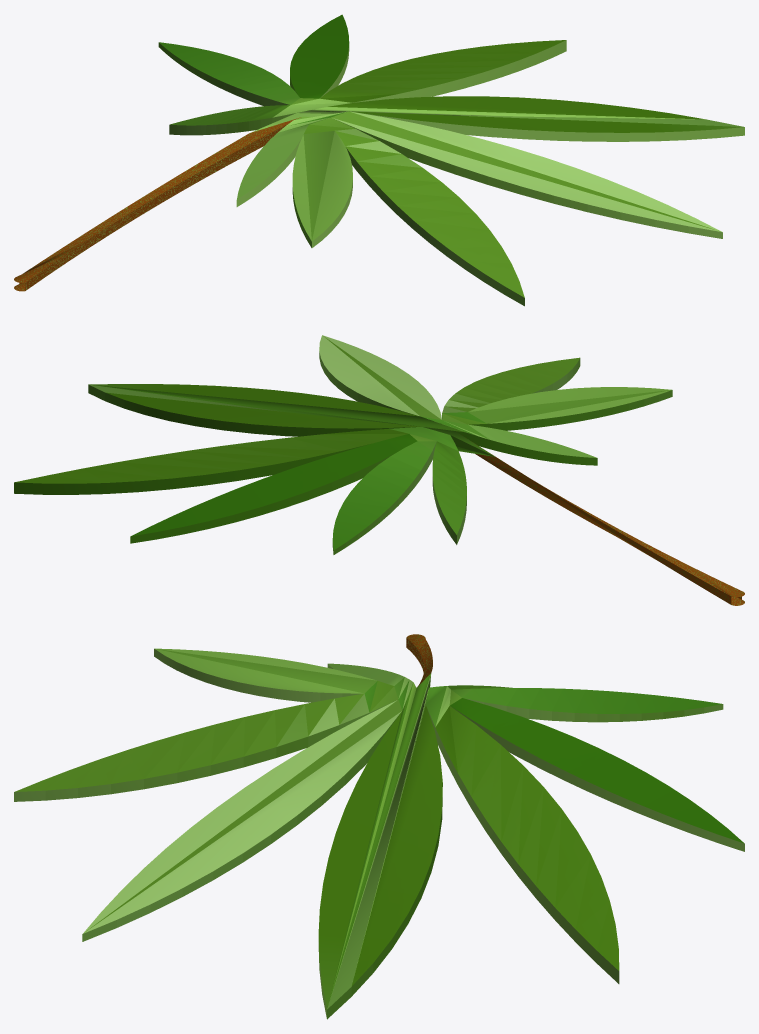
The picture shows the model from 3 angles, top to bottom: view 1: azimuth 30°, elevation 25°; view 2: azimuth 150°, elevation 25°; view 3: azimuth 270°, elevation 25°; orthographic projection. The views are drawn at different scales.
Parts seen in each view (by area): view 1: SketchUp (×2); view 2: SketchUp (×2); view 3: SketchUp (×2).
Part boxes in pixels (<box>): SketchUp (×2): <box>14,14,744,306</box>; SketchUp (×2): <box>14,335,744,605</box>; SketchUp (×2): <box>14,634,744,1019</box>.
Size of the model in its own units: 8.97 by 7.09 by 1.27.
2 materials, 1 textured.
